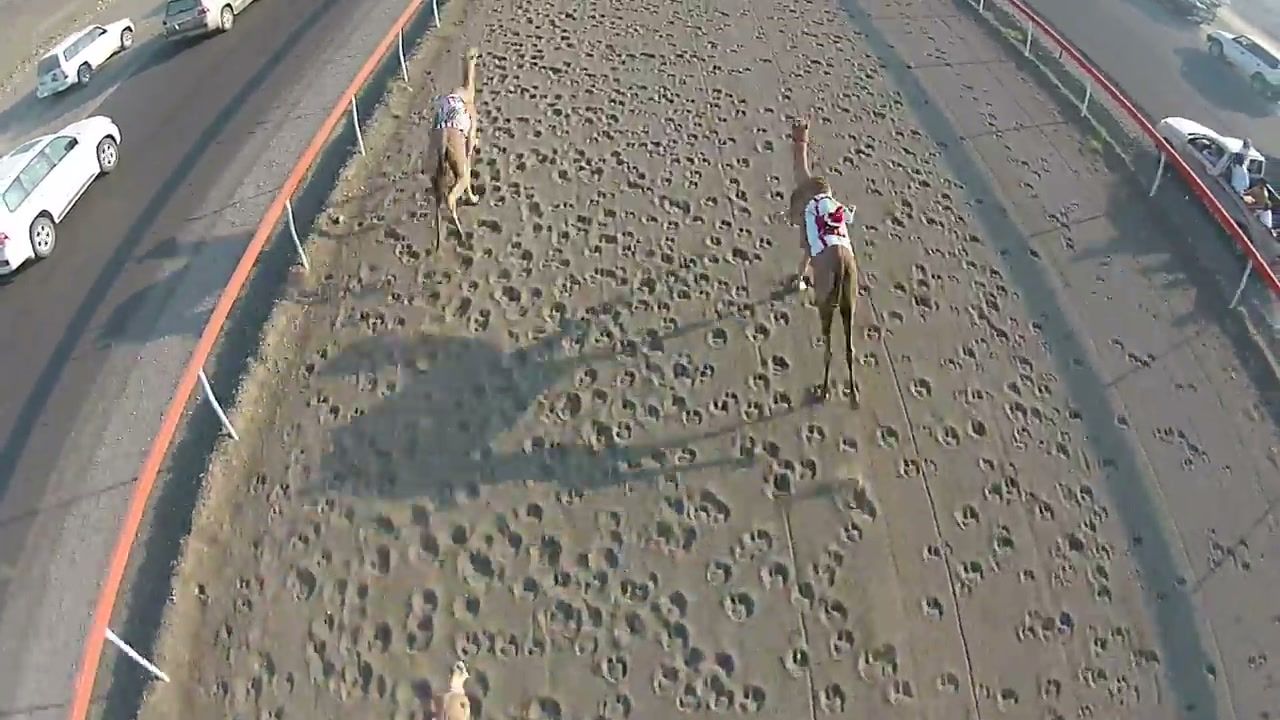animal_footprint: (140, 0, 1166, 719)
